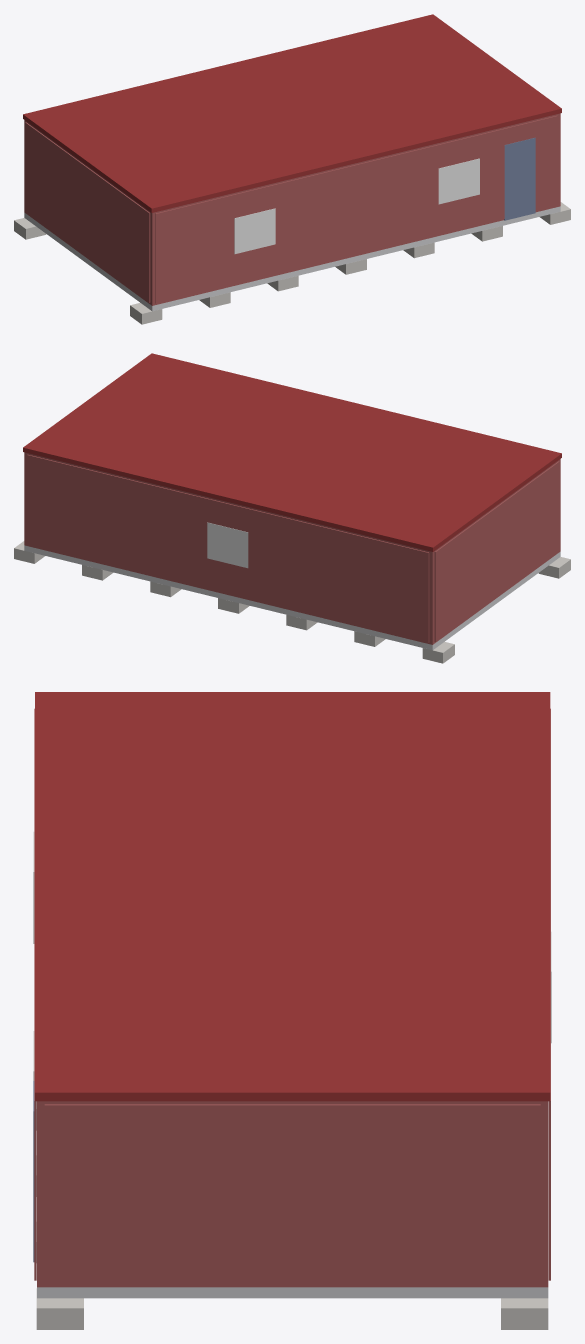
Rendered from Studio-40-Base-MaroonRed-LOD2.glb.
The picture shows the model from 3 angles, top to bottom: view 1: azimuth 30°, elevation 25°; view 2: azimuth 150°, elevation 25°; view 3: azimuth 270°, elevation 25°; orthographic projection. The views are drawn at different scales.
Visible parts, largest first — view 1: RoofMain, ExteriorPanelsStandard, BaseFrame, WindowsStandard, ExteriorShell, FoundationBlocks, EntryDoor; view 2: RoofMain, ExteriorPanelsStandard, BaseFrame, ExteriorShell, FoundationBlocks, WindowsStandard; view 3: RoofMain, ExteriorPanelsStandard, ExteriorShell, BaseFrame, FoundationBlocks.
Boxes of the visible parts, x1,y1,x2,y2 form: RoofMain: (23,14,561,212); ExteriorPanelsStandard: (25,115,557,303); BaseFrame: (24,206,560,311); WindowsStandard: (234,158,479,254); ExteriorShell: (24,113,560,305); FoundationBlocks: (14,202,570,324); EntryDoor: (504,137,535,220); RoofMain: (23,353,561,551); ExteriorPanelsStandard: (27,454,559,642); BaseFrame: (24,545,560,650); ExteriorShell: (24,452,560,644); FoundationBlocks: (14,541,570,663); WindowsStandard: (207,522,248,568); RoofMain: (35,692,550,1101); ExteriorPanelsStandard: (34,708,550,1284); ExteriorShell: (37,1101,548,1287); BaseFrame: (37,1287,548,1298); FoundationBlocks: (36,1101,548,1329).
Bounding box in the file's own units: 12.49 × 3.17 × 6.53.
